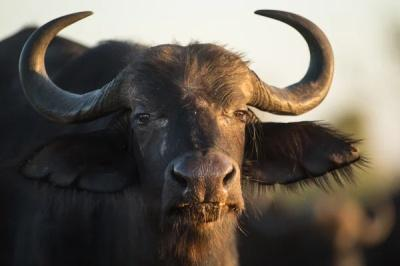buffalo: (0, 10, 359, 265)
